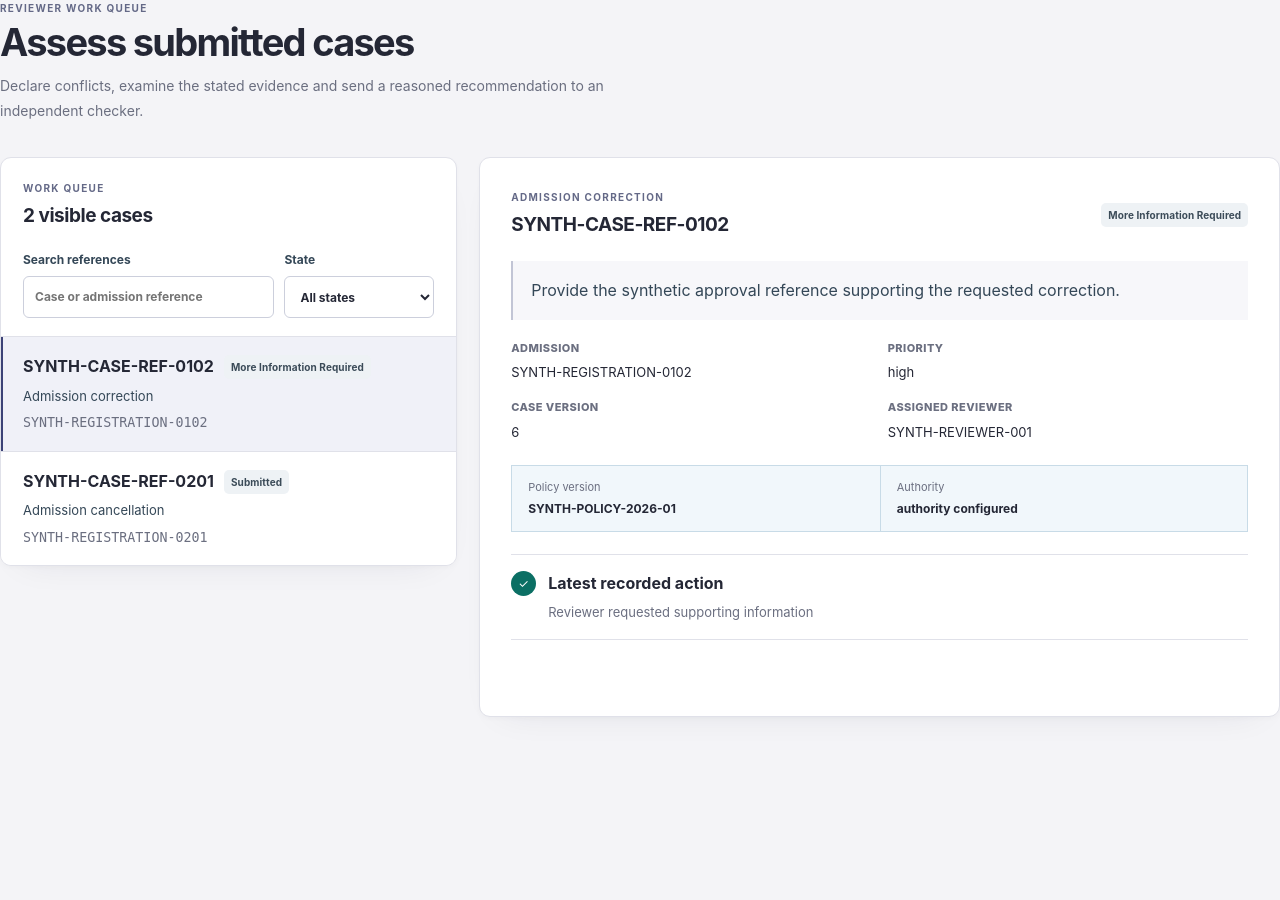
casework portal journeys › requires reviewer conflict clearance before recommendation
Click the button "SYNTH-CASE-REF-0201" at [118, 481], box top-left (1, 452), bottom-right (456, 565)
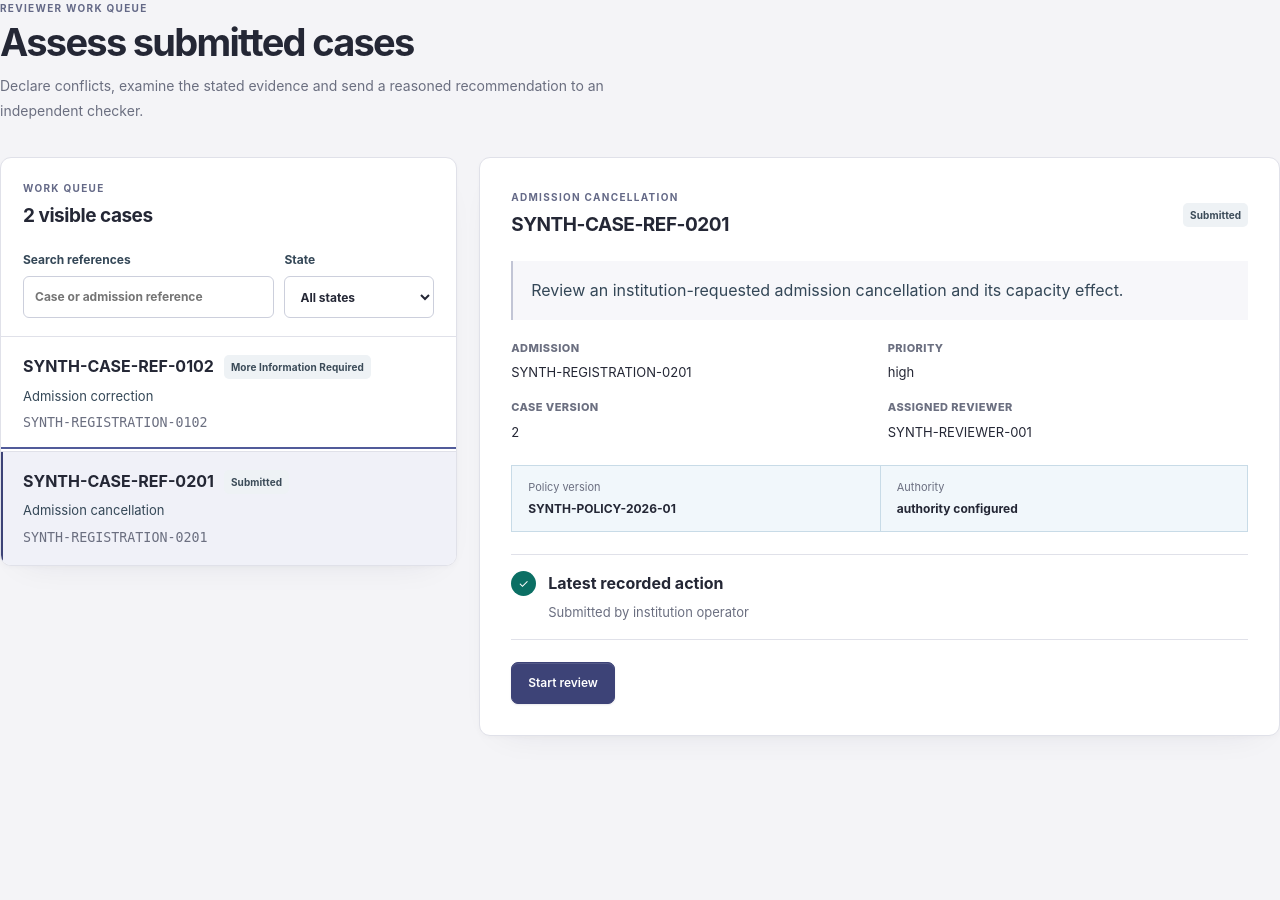
Click the button "Start review" at [563, 683], box top-left (511, 662), bottom-right (615, 704)
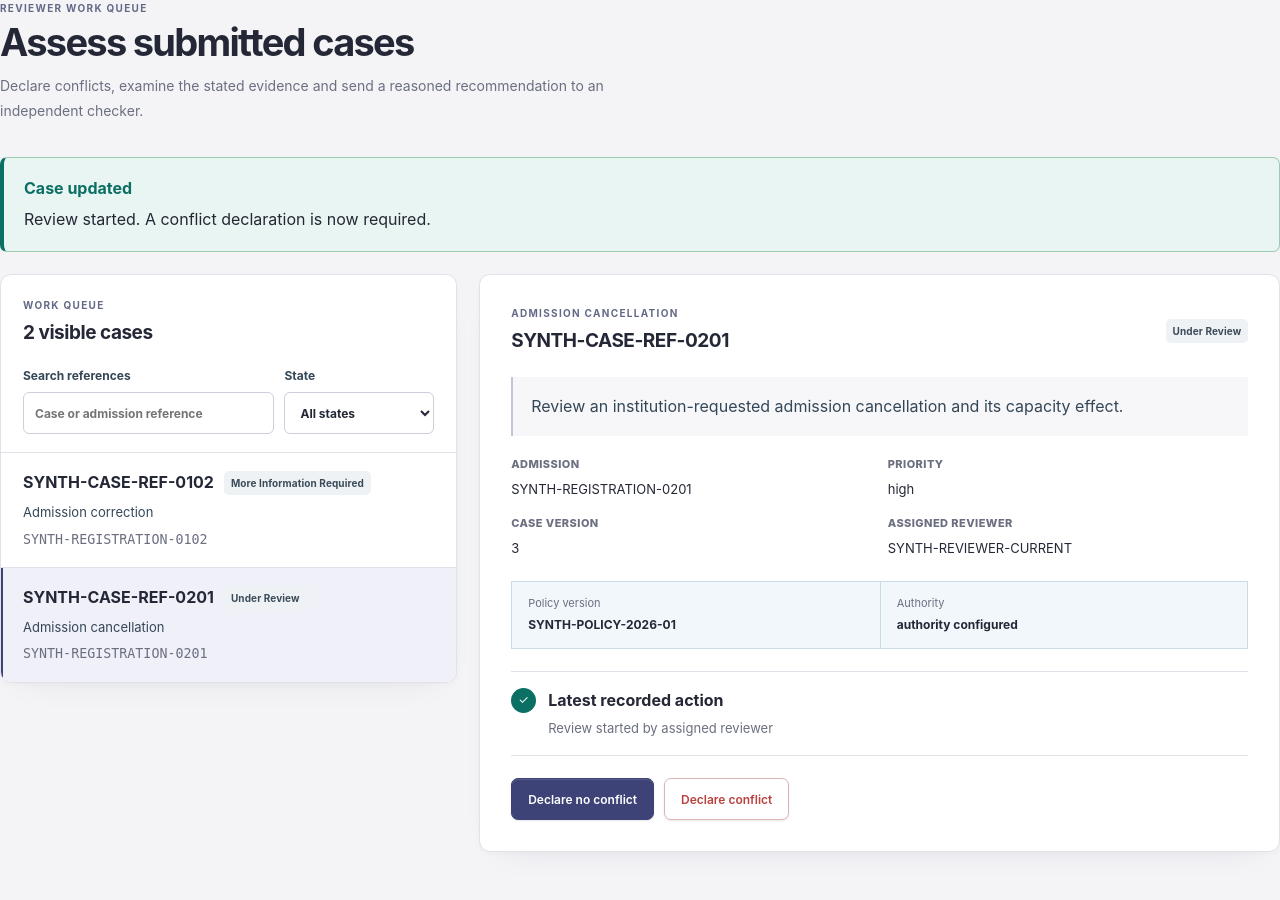
Check: the text "Review started. A conflict declaration is now required." is shown, box top-left (24, 209), bottom-right (431, 229)
Click the button "Declare no conflict" at [583, 799], box top-left (511, 778), bottom-right (654, 820)
(page scrolled)
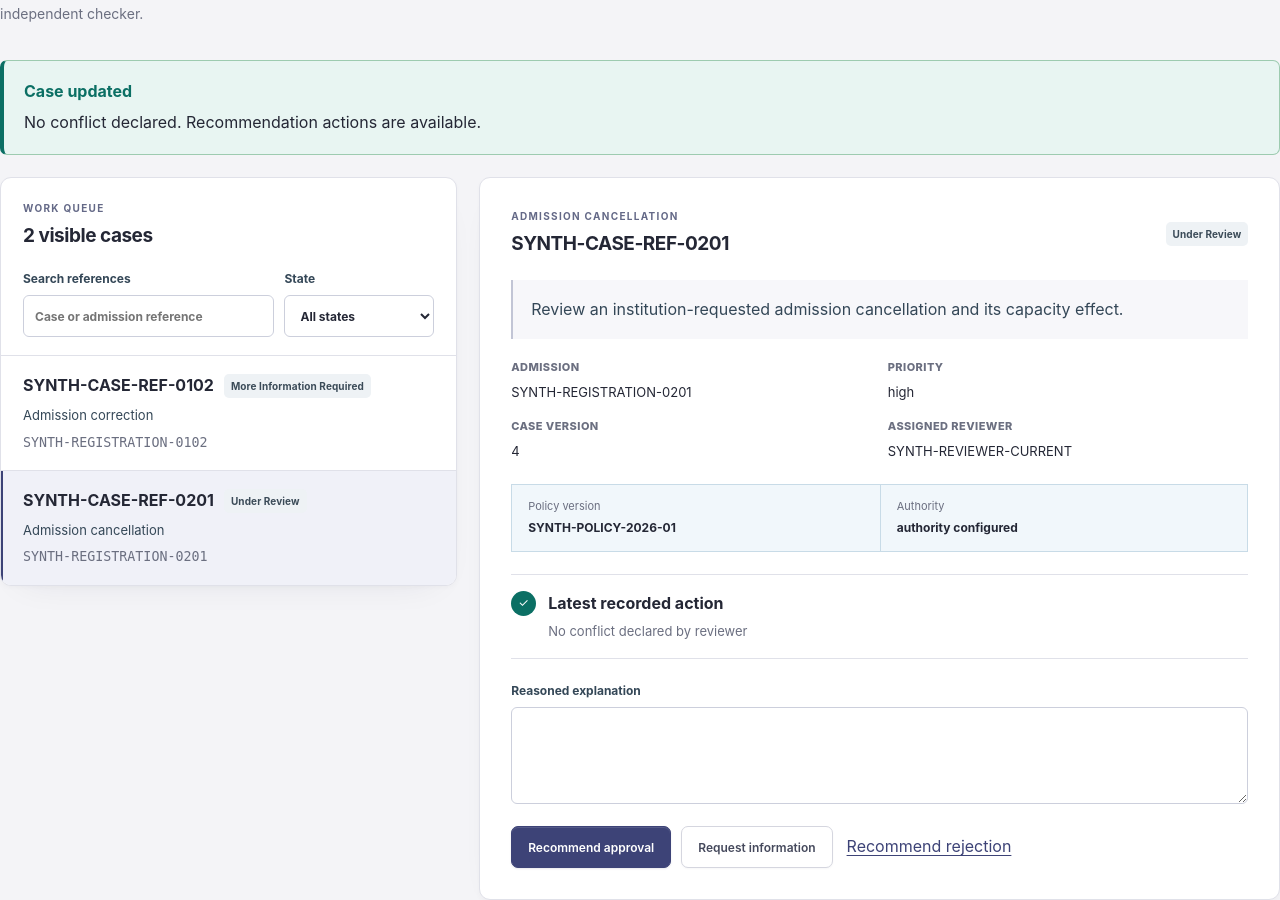
Type "Synthetic evidence is complete." into the text box labelled "Reasoned explanation" at [880, 756], box top-left (511, 707), bottom-right (1248, 804)
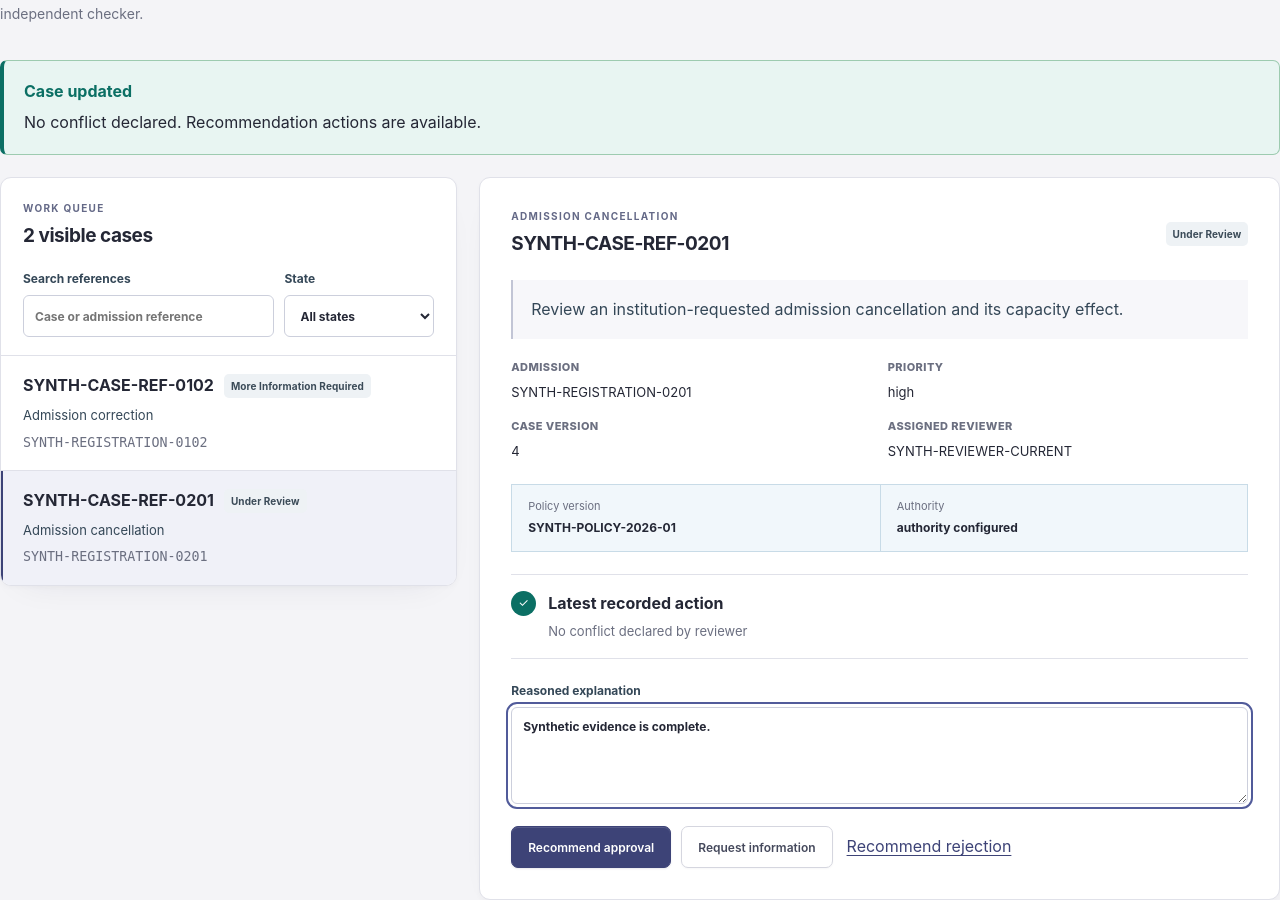
Click the button "Recommend approval" at [591, 847], box top-left (511, 826), bottom-right (671, 868)
(page scrolled)
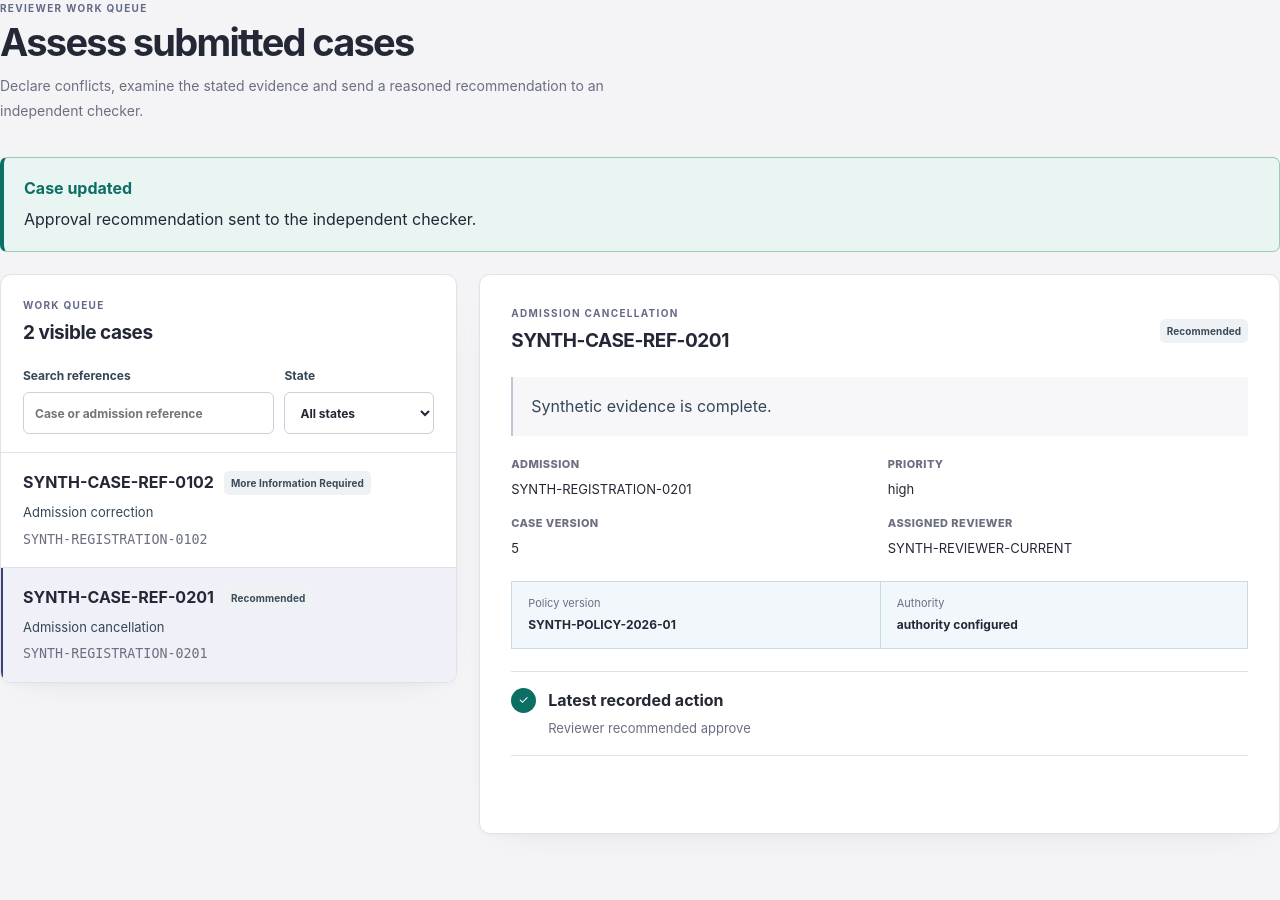
Check: the message shows "independent checker", box top-left (24, 209), bottom-right (476, 229)
Check: the text "recommended" below "Search references" is shown, box top-left (231, 592), bottom-right (305, 604)
